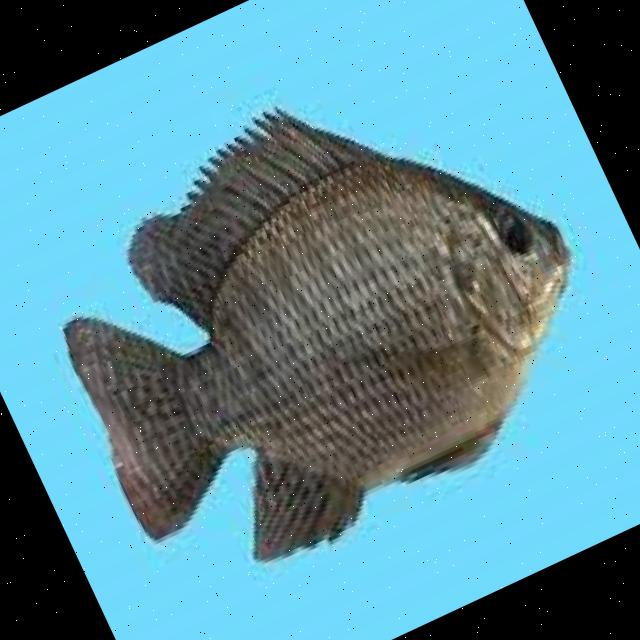ikan: (1, 11, 640, 614)
